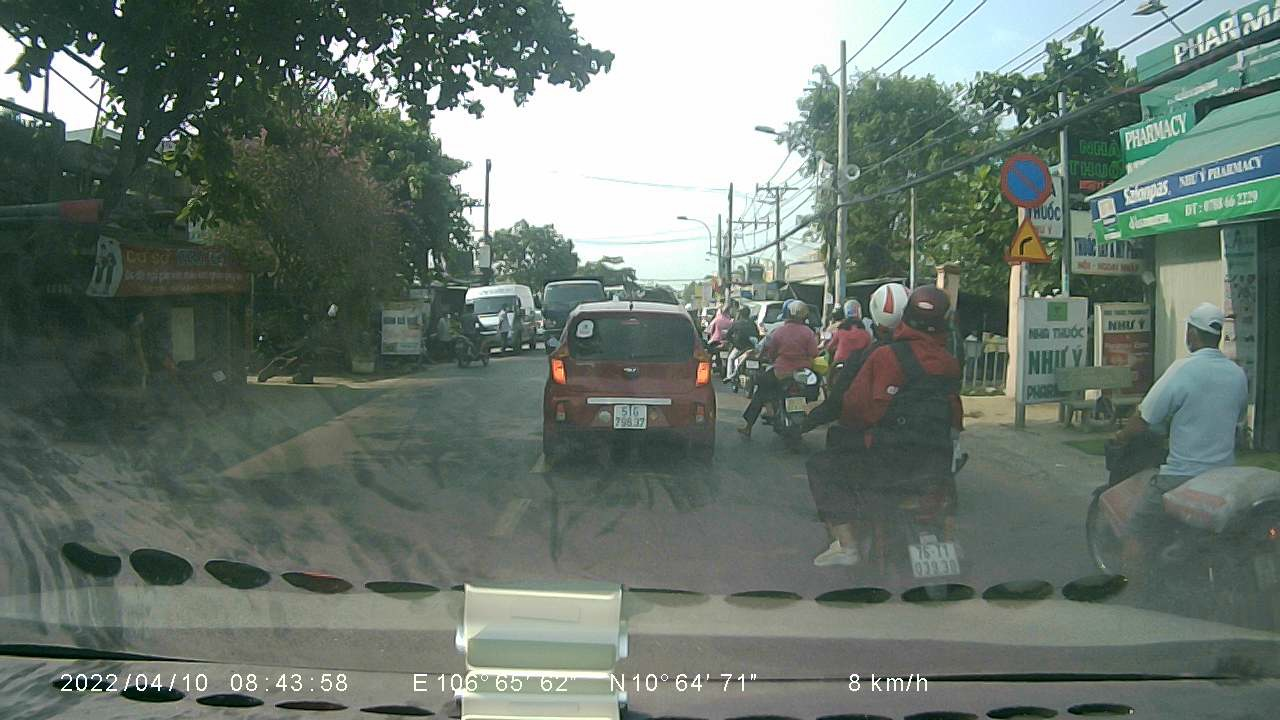Bien khac: (1001, 215, 1052, 266)
Cam do xe: (996, 146, 1052, 206)
